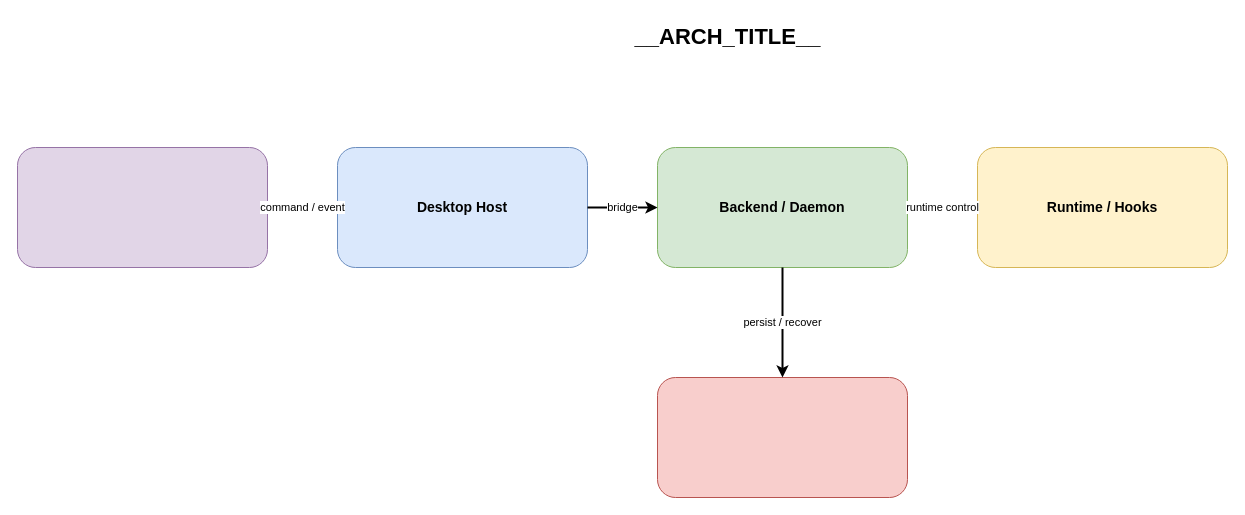
The diagram is 1245 pixels wide and 515 high, and some of its shapes have lost their labels. Here are the shapes that lost their labels. From the top down, the box of each, then its label:
(16, 146, 268, 268): Frontend
(656, 376, 908, 498): Storage / Event Log
